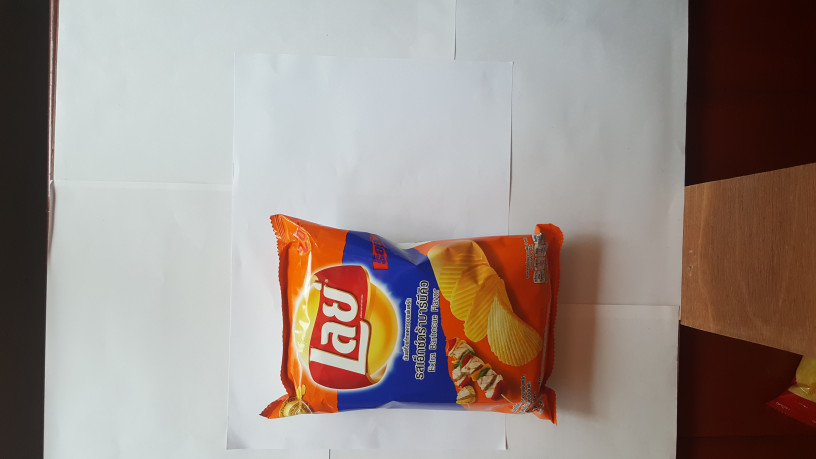lays-bbq: (256, 198, 584, 434)
